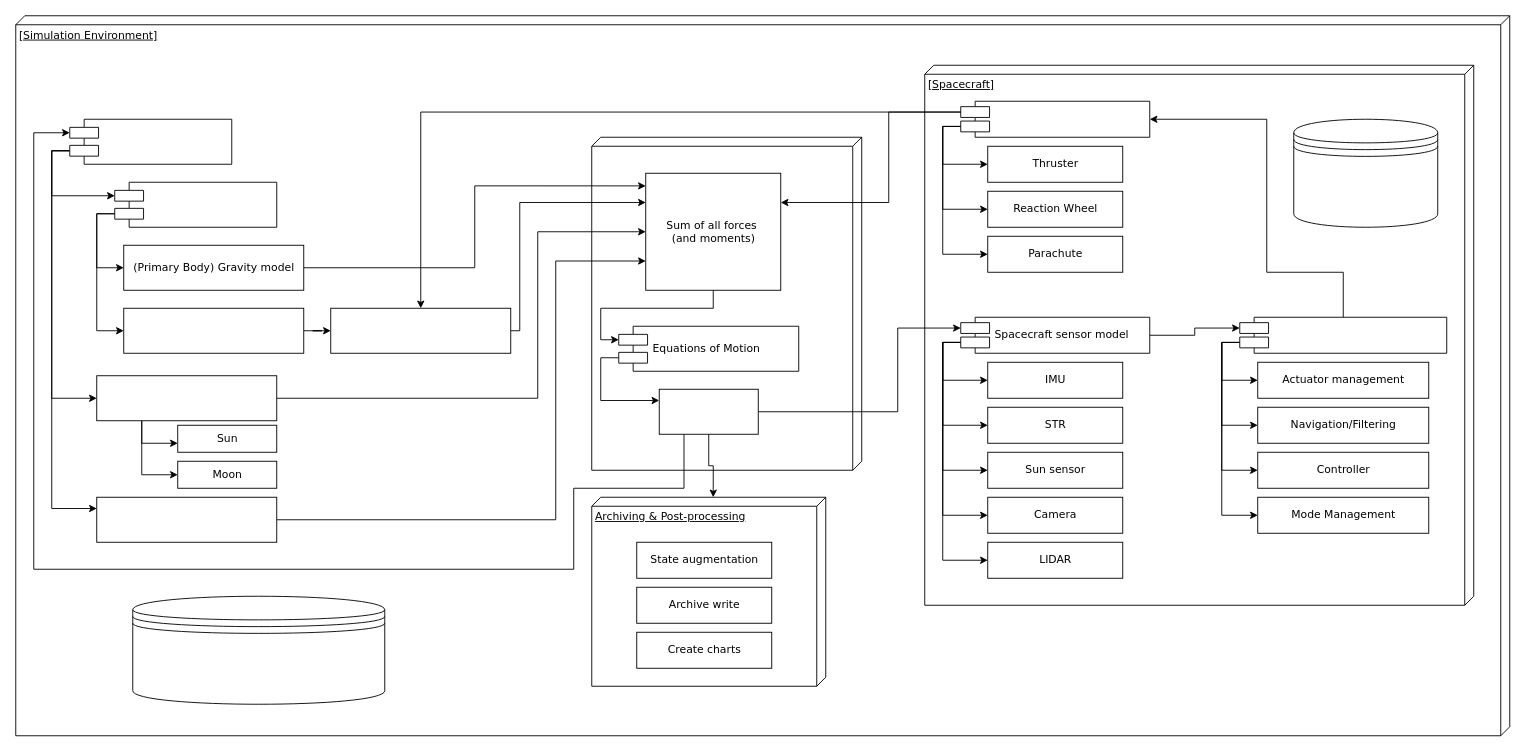
Image size: 1526x752. Some labels were removed from this diagram. The box of each missing label's shape, as (x1, y1, x2, y2) in pixels:
Aerodynamic model: (330, 307, 511, 353)
Atmosphere model: (123, 307, 304, 353)
Dyncamics Solver: (591, 136, 862, 470)
Environment Data: (132, 595, 385, 704)
Environment model: (69, 118, 232, 164)
Planet model: (114, 181, 277, 227)
RK4 solver: (658, 388, 758, 434)
Solar radiation pressure: (96, 496, 277, 542)
Spacecraft actuator model: (960, 100, 1150, 137)
Spacecraft AOCS/GNC model: (1239, 316, 1447, 353)
Spacecraft Data: (1293, 118, 1438, 227)
Third body: (96, 375, 277, 421)
